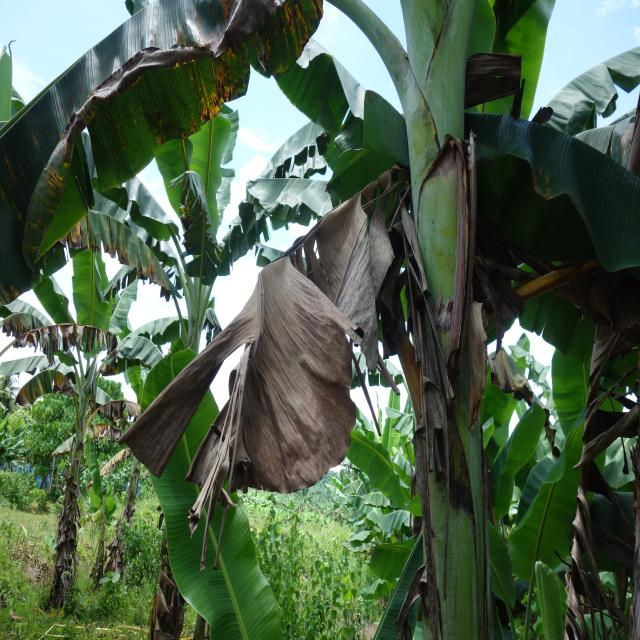Banana-plant: (394, 64, 507, 640), (37, 354, 103, 618)
